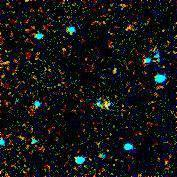star: (96, 90, 126, 120)
